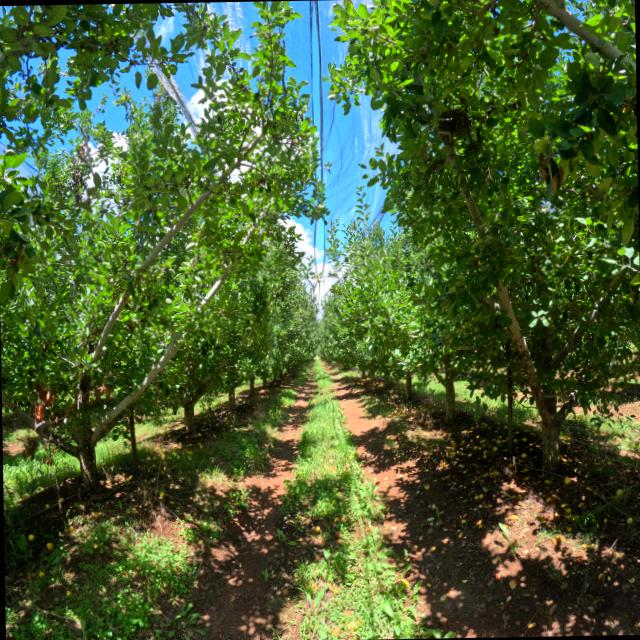-FireBlight-: (536, 152, 564, 198), (30, 380, 57, 426), (48, 398, 79, 428), (98, 383, 114, 399), (42, 440, 48, 451), (46, 456, 52, 467)
